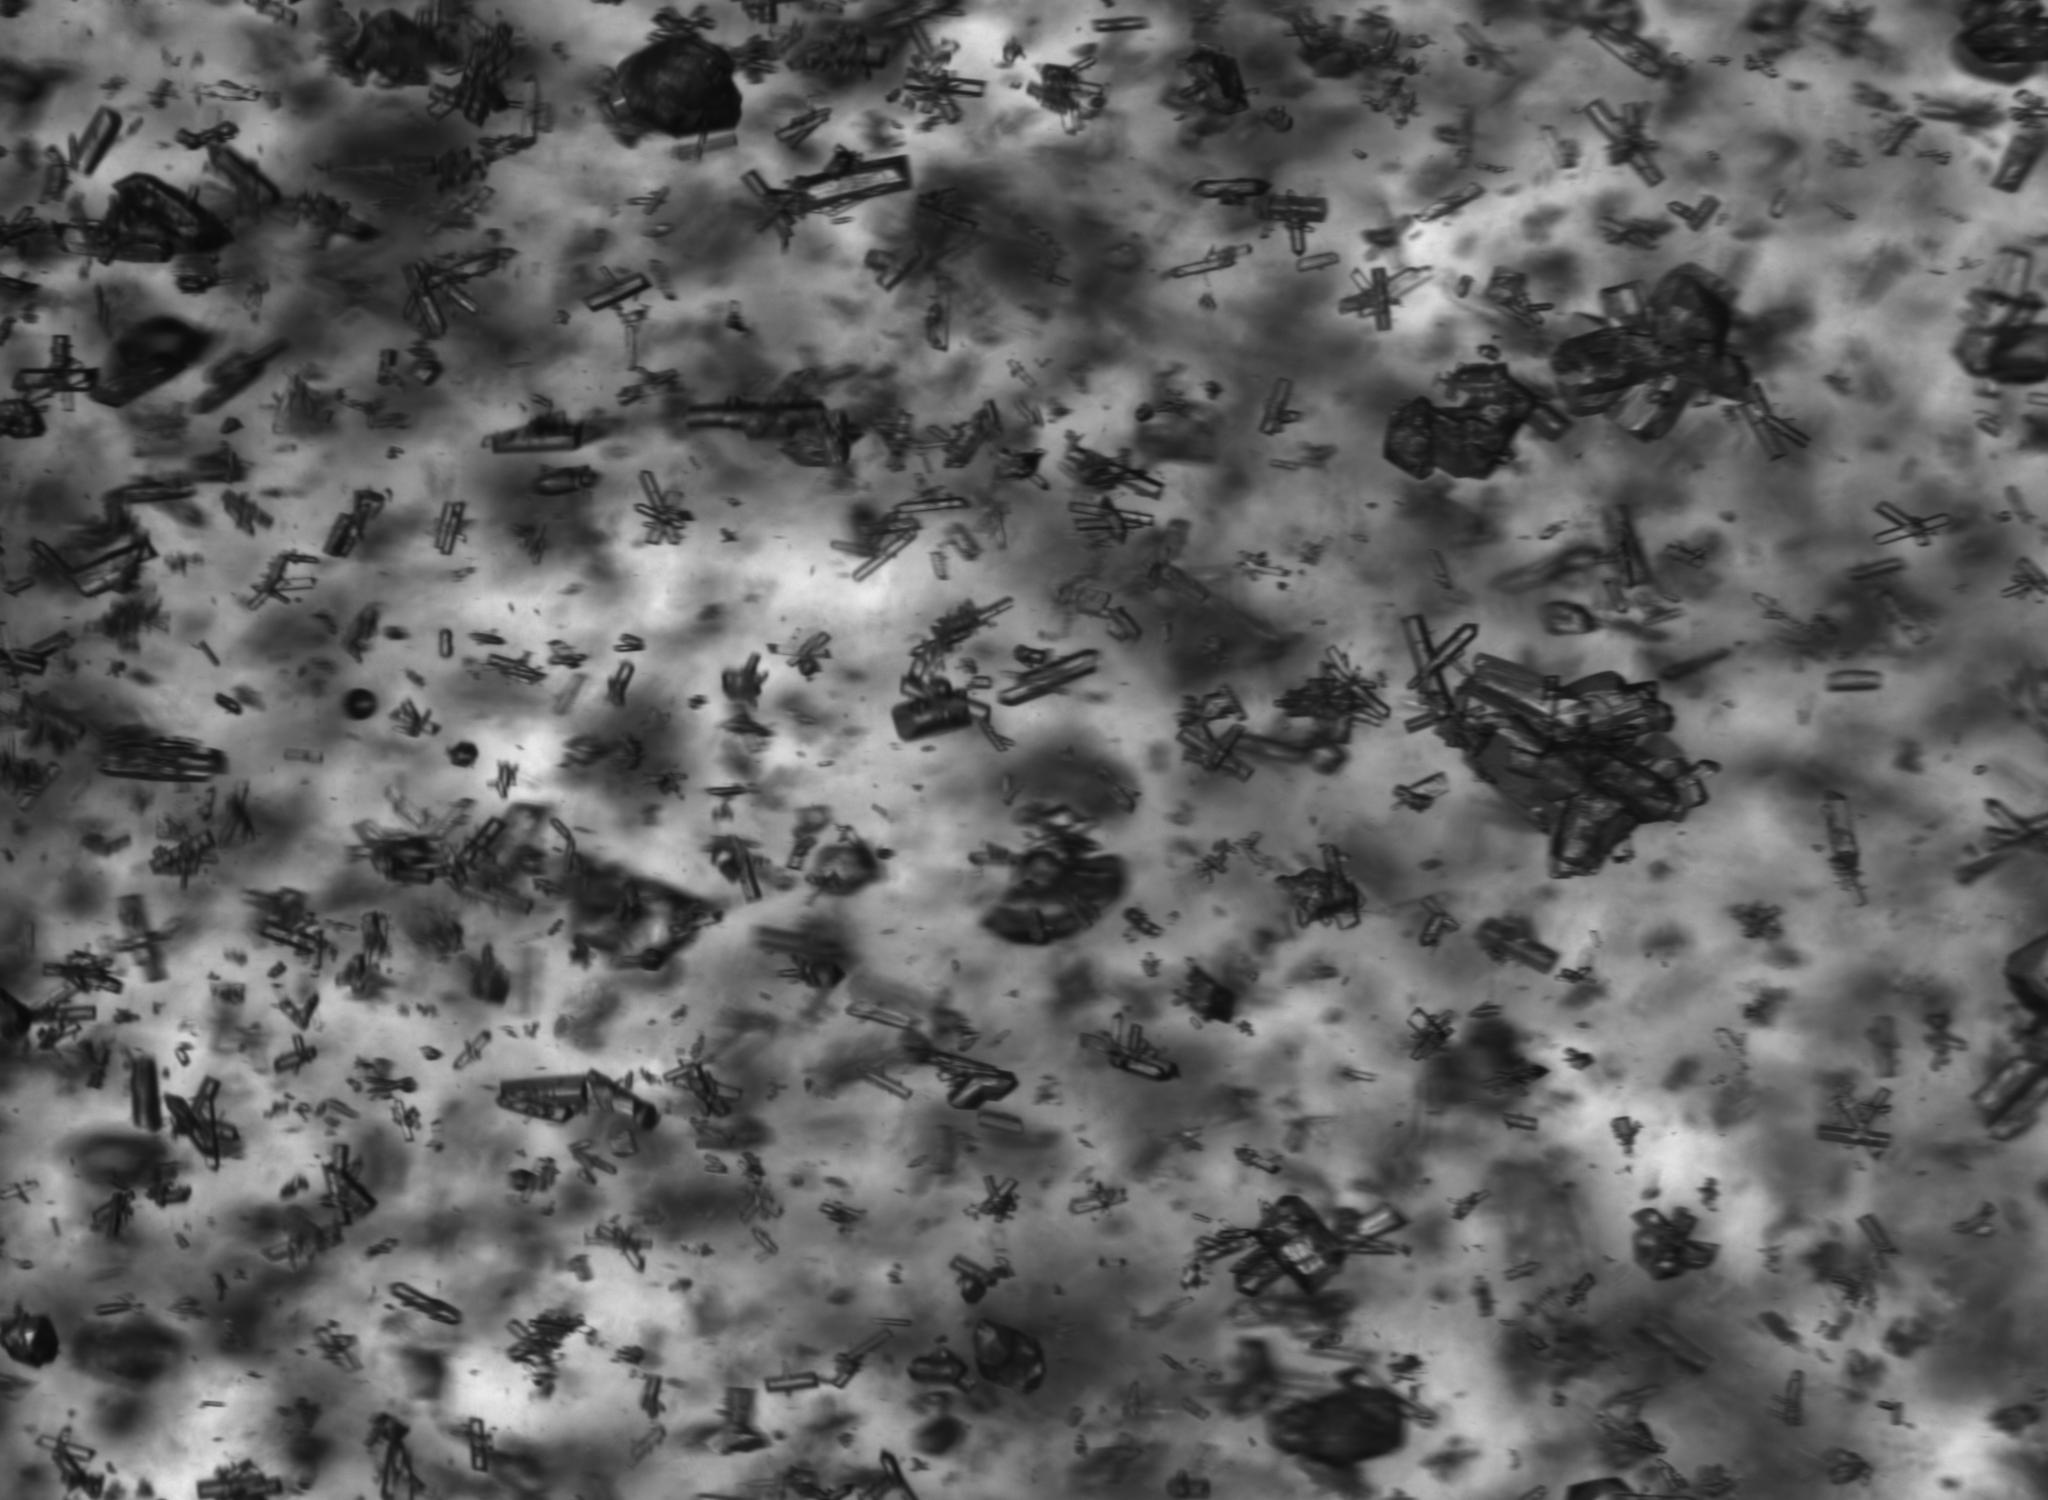bubble: (342, 689, 378, 721)
crystal: (1401, 614, 1708, 878), (1550, 266, 1757, 439), (970, 805, 1126, 946), (1383, 363, 1569, 479), (342, 818, 533, 915), (51, 173, 237, 262), (599, 30, 743, 140), (1269, 1366, 1414, 1473), (741, 150, 913, 231), (1953, 248, 2048, 387), (1277, 646, 1390, 746), (900, 598, 1011, 698), (593, 875, 709, 967), (892, 24, 987, 132), (1253, 1193, 1348, 1298), (425, 17, 515, 126), (496, 1074, 657, 1133), (401, 248, 501, 337), (1272, 840, 1361, 932), (1954, 0, 2048, 83), (164, 1075, 240, 1171), (8, 334, 97, 414), (100, 730, 229, 783), (995, 647, 1099, 711), (1585, 102, 1663, 186), (1022, 57, 1107, 135), (1081, 1016, 1178, 1082), (1631, 1207, 1717, 1280), (1337, 266, 1431, 331), (921, 1048, 1019, 1110), (64, 538, 159, 601), (1064, 441, 1164, 501), (507, 1315, 592, 1382), (972, 1319, 1045, 1393), (1824, 792, 1872, 905), (889, 690, 994, 740), (1251, 191, 1328, 258), (1976, 1058, 2048, 1128), (318, 1142, 378, 1225), (1471, 918, 1558, 973), (1735, 396, 1811, 460), (210, 145, 281, 210), (634, 469, 695, 546), (320, 488, 385, 558), (0, 690, 86, 743), (1603, 504, 1655, 589), (684, 401, 830, 431), (246, 552, 320, 612), (1185, 48, 1248, 116), (1592, 27, 1673, 80), (1482, 267, 1550, 329), (1175, 722, 1248, 779), (65, 105, 122, 178), (665, 1061, 741, 1115), (830, 1328, 897, 1389), (491, 412, 584, 455), (1450, 21, 1517, 80), (1067, 498, 1151, 544), (851, 531, 919, 585), (2003, 934, 2048, 1016), (196, 1459, 285, 1500), (32, 1435, 95, 1492), (584, 1223, 654, 1274), (0, 1312, 60, 1370), (711, 837, 762, 903), (1991, 134, 2048, 192), (1873, 504, 1951, 547), (43, 951, 121, 994), (948, 1255, 1013, 1306), (1406, 186, 1485, 227), (1178, 967, 1239, 1021), (765, 630, 833, 678), (145, 830, 215, 876), (579, 272, 655, 313), (1228, 1244, 1285, 1298), (452, 816, 509, 869), (14, 760, 67, 818), (908, 1346, 972, 1392), (393, 1282, 461, 1323), (695, 1422, 770, 1459), (865, 243, 922, 291), (1191, 1226, 1264, 1263), (1172, 690, 1242, 729), (1161, 245, 1240, 278), (313, 1319, 361, 1374), (1980, 799, 2037, 845), (105, 479, 202, 506), (564, 1137, 620, 1183), (774, 107, 832, 151), (130, 1055, 164, 1131), (1391, 768, 1450, 811), (1231, 733, 1309, 765), (1344, 1201, 1407, 1239), (1404, 1010, 1450, 1063), (1259, 380, 1302, 436), (940, 420, 986, 471), (774, 959, 848, 991), (1067, 1177, 1127, 1215), (992, 449, 1048, 490), (256, 919, 324, 953), (1191, 177, 1270, 205), (814, 409, 851, 469), (89, 1188, 135, 1236), (975, 1174, 1019, 1223), (848, 1001, 921, 1029), (170, 121, 239, 151), (1539, 600, 1598, 635), (534, 466, 598, 498), (1816, 1125, 1891, 1152), (487, 652, 547, 686), (272, 1032, 318, 1075), (1856, 1214, 1902, 1255), (1666, 196, 1720, 231), (671, 135, 741, 162), (722, 654, 760, 703), (383, 1438, 413, 1500), (859, 1067, 913, 1101), (2003, 558, 2048, 598), (509, 1160, 555, 1198), (927, 275, 951, 348), (432, 501, 464, 555), (452, 1029, 493, 1071), (0, 399, 45, 437), (1883, 116, 1924, 156), (2010, 89, 2048, 132), (1538, 126, 1576, 169), (1841, 555, 1902, 582), (188, 80, 259, 102), (477, 134, 526, 165), (1234, 1145, 1283, 1176), (359, 911, 391, 958), (520, 72, 539, 148), (857, 517, 922, 539), (604, 660, 634, 708), (1235, 552, 1291, 577), (1107, 606, 1143, 644), (1857, 1086, 1892, 1126), (334, 953, 367, 994), (1825, 668, 1883, 692), (25, 630, 78, 655), (626, 1425, 666, 1459), (623, 186, 669, 215), (895, 496, 973, 512), (765, 1371, 820, 1393), (978, 1109, 1026, 1134), (405, 356, 444, 388), (1073, 585, 1113, 616), (1123, 907, 1162, 937), (1417, 908, 1447, 946), (547, 638, 585, 668), (1665, 546, 1708, 571), (1601, 577, 1630, 616), (6, 652, 49, 678), (1089, 16, 1150, 33), (467, 1417, 487, 1470), (787, 835, 814, 872), (604, 1128, 636, 1158), (1294, 253, 1340, 274), (816, 1203, 862, 1223), (445, 741, 480, 767), (641, 1374, 661, 1417), (394, 1101, 415, 1144), (749, 1228, 779, 1257), (324, 1096, 359, 1120), (1013, 644, 1048, 666), (1608, 1115, 1635, 1144), (1263, 108, 1293, 134), (60, 1004, 97, 1023), (634, 223, 673, 239), (625, 326, 638, 374), (612, 633, 646, 651), (95, 1301, 132, 1317), (216, 692, 242, 714), (1503, 1115, 1538, 1131), (929, 552, 948, 581), (285, 749, 323, 764), (1181, 1261, 1200, 1288), (619, 309, 646, 326), (870, 1317, 913, 1327), (221, 417, 245, 433), (420, 1045, 442, 1059), (439, 630, 450, 657), (970, 676, 992, 689)
